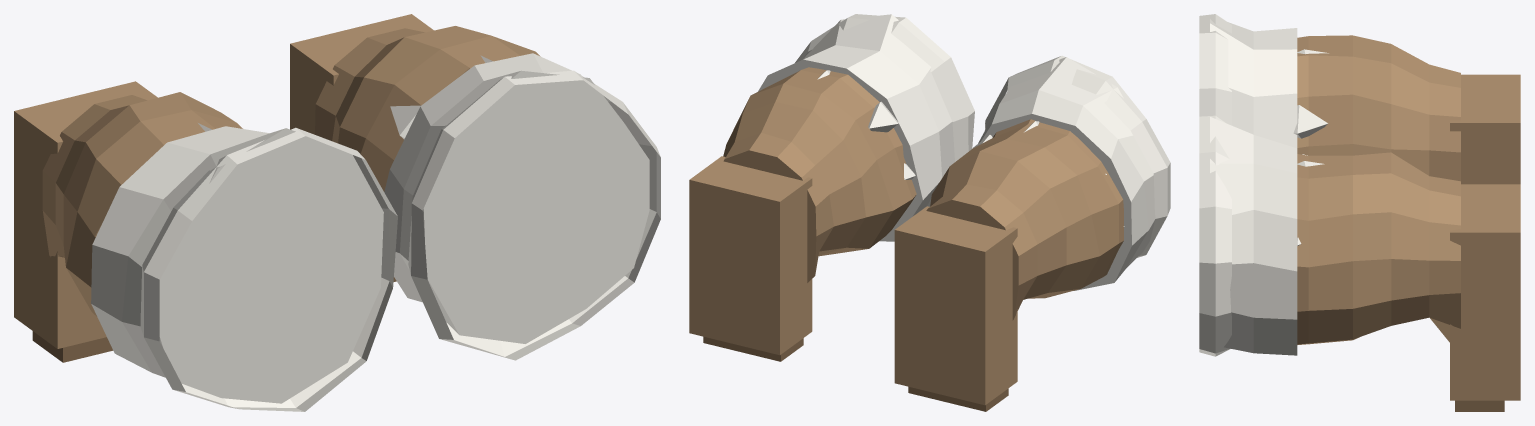
File: boots_fur.glb
The picture shows the model from 3 angles, left to right: view 1: azimuth 30°, elevation 25°; view 2: azimuth 150°, elevation 25°; view 3: azimuth 270°, elevation 25°; orthographic projection. The views are drawn at different scales.
Visible parts, largest first — view 1: LowerLegR, LowerLegL, FootR, FootL; view 2: LowerLegL, LowerLegR, FootR, FootL; view 3: LowerLegL, LowerLegR, FootL, FootR.
Part boxes in pixels (x1=…): LowerLegR: x1=42, y1=92, x2=397, y2=411; LowerLegL: x1=315, y1=26, x2=660, y2=360; FootR: x1=14, y1=81, x2=157, y2=362; FootL: x1=290, y1=14, x2=433, y2=282; LowerLegL: x1=723, y1=14, x2=974, y2=282; LowerLegR: x1=926, y1=55, x2=1170, y2=320; FootR: x1=894, y1=206, x2=1017, y2=411; FootL: x1=689, y1=156, x2=812, y2=361; LowerLegL: x1=1199, y1=115, x2=1460, y2=356; LowerLegR: x1=1199, y1=14, x2=1460, y2=181; FootL: x1=1450, y1=184, x2=1520, y2=411; FootR: x1=1450, y1=74, x2=1520, y2=184.
Bounding box in the file's own units: 0.8937 × 0.5393 × 0.59.
